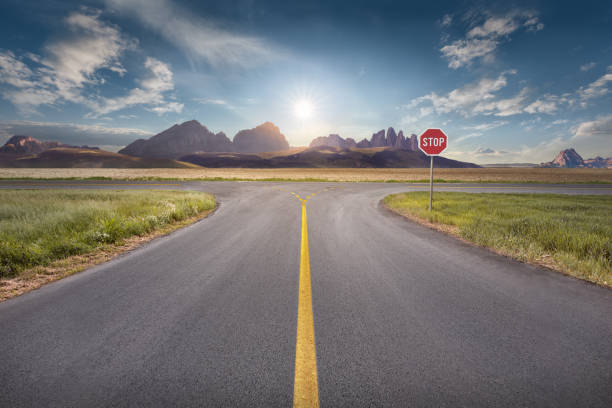StopSign: (418, 127, 448, 155)
